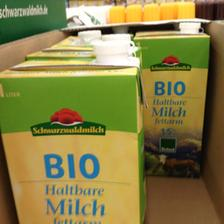Milch: (1, 44, 149, 224), (134, 23, 210, 179)
